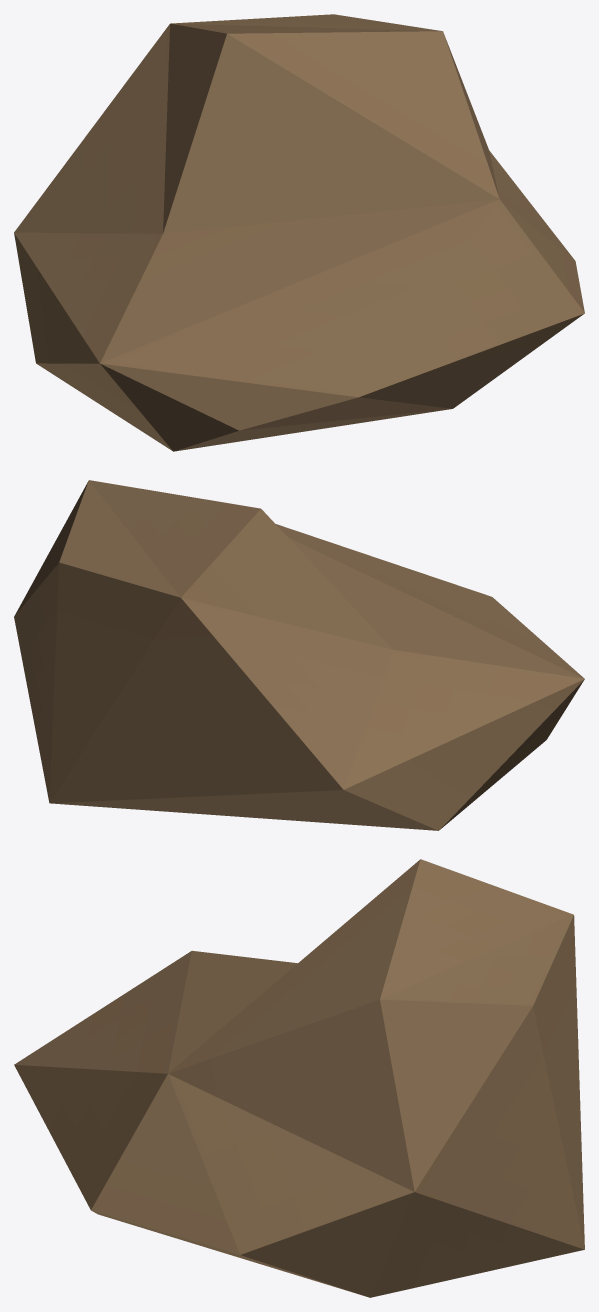
File: Boulder-C02.fbx
3 renders of one model, top to bottom at view 1: azimuth 30°, elevation 25°; view 2: azimuth 150°, elevation 25°; view 3: azimuth 270°, elevation 25°, orthographic. The views are drawn at different scales.
Visible parts, largest first — view 1: Boulder-C02; view 2: Boulder-C02; view 3: Boulder-C02.
Boxes of the visible parts, x1,y1,x2,y2 form: Boulder-C02: (14,14,584,451); Boulder-C02: (14,480,584,830); Boulder-C02: (14,859,584,1297).
Size of the model in its own units: 160 by 87.96 by 145.
